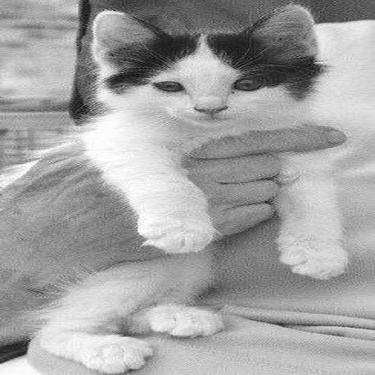cat: (6, 9, 351, 359)
